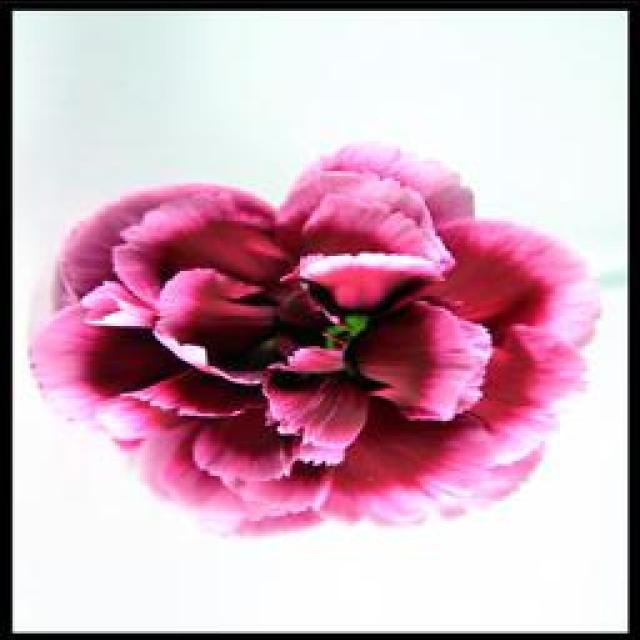carnation: (45, 138, 600, 538)
